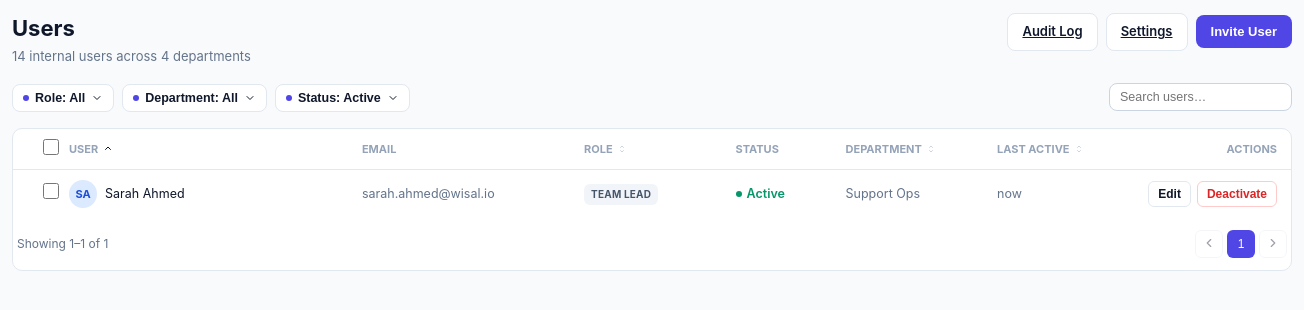
Scenario: UsersPage › writes a status filter change to the URL search params
Expected: the text "Sarah Ahmed" is shown, [105, 186, 185, 201]
Click the button "Status: Active": (342, 98) [275, 84, 410, 112]
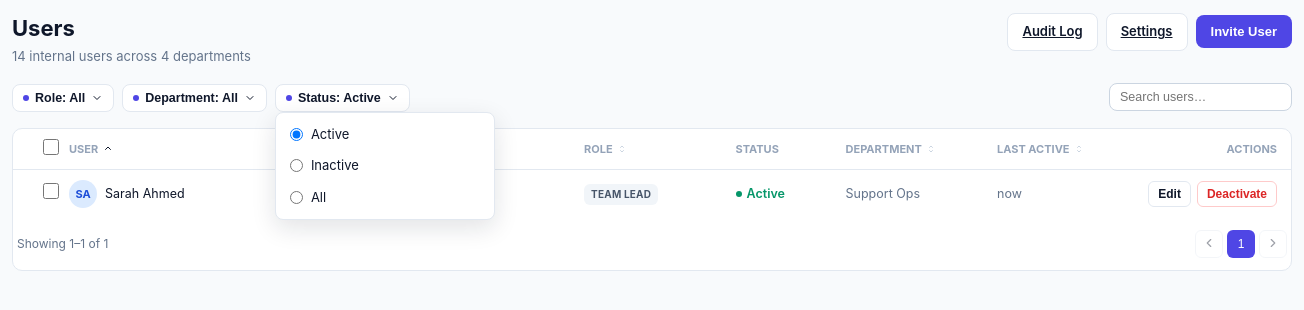
Click the radio button labelled "Inactive": (296, 166) [290, 159, 303, 172]
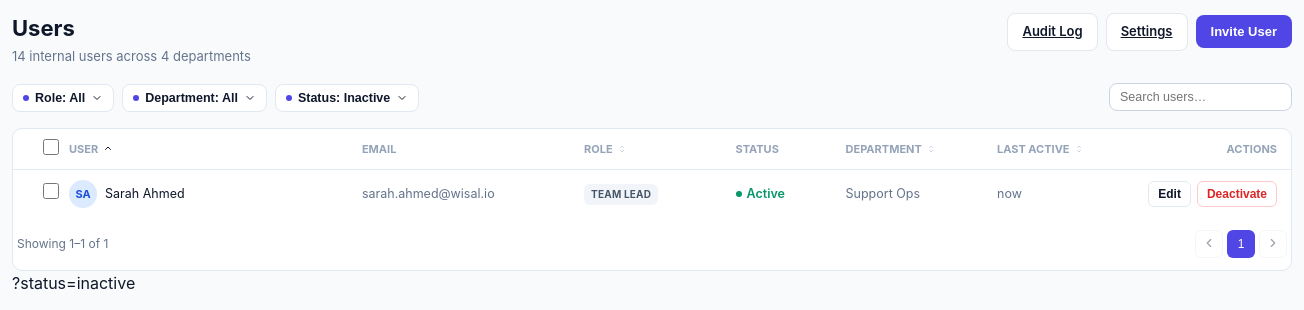
Result: the text with test id "location" shows "status=inactive" at [12, 273, 135, 293]
